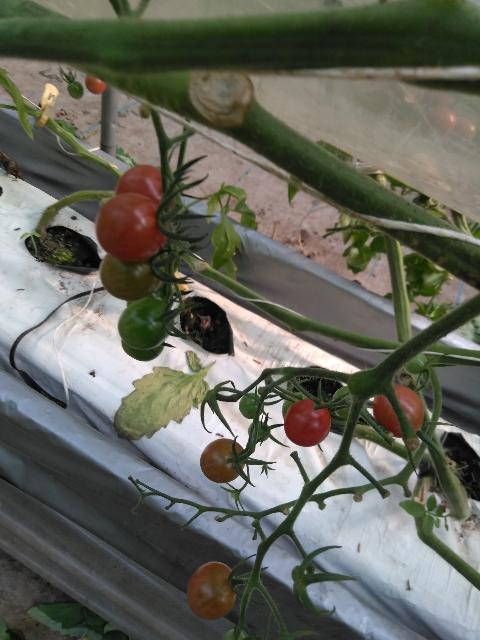l_fully_ripened: (96, 192, 169, 261), (115, 164, 174, 215), (284, 398, 330, 447), (84, 74, 106, 95)
l_green: (117, 299, 175, 351), (122, 338, 165, 362), (282, 391, 314, 420), (332, 385, 352, 418), (239, 393, 264, 419), (403, 353, 429, 376), (247, 420, 271, 442), (67, 80, 84, 99)
l_half_ripened: (99, 252, 163, 301), (372, 384, 424, 440), (188, 562, 238, 620), (199, 438, 247, 484)
